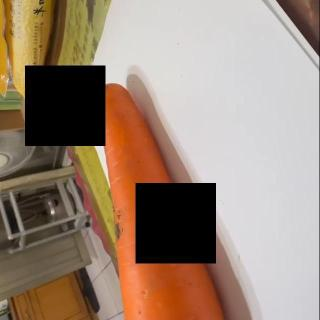carrot: (93, 82, 230, 320)
